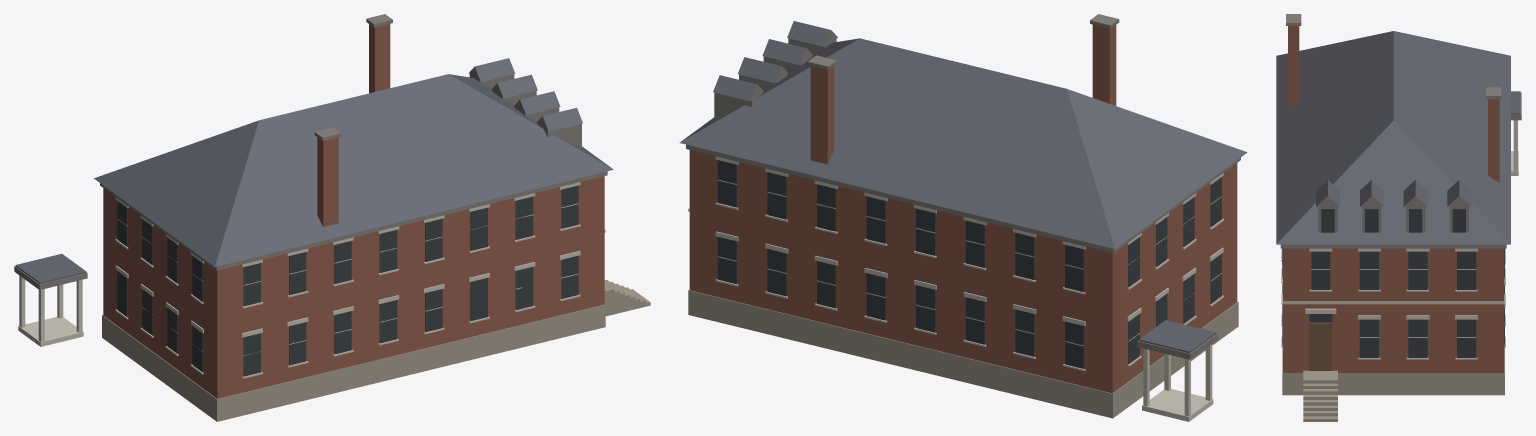
File: house_2027_prairie__draft_1904.glb
3 renders of one model, left to right at view 1: azimuth 30°, elevation 25°; view 2: azimuth 150°, elevation 25°; view 3: azimuth 270°, elevation 25°, orthographic. The views are drawn at different scales.
Parts seen in each view (by area): view 1: house_2027_prairie__draft_1904; view 2: house_2027_prairie__draft_1904; view 3: house_2027_prairie__draft_1904.
Part boxes in pixels (x1,y1,x2,y2): house_2027_prairie__draft_1904: (14, 14, 650, 421); house_2027_prairie__draft_1904: (679, 14, 1247, 421); house_2027_prairie__draft_1904: (1276, 14, 1521, 421).
Size of the model in its own units: 30.45 by 14.25 by 12.75.
